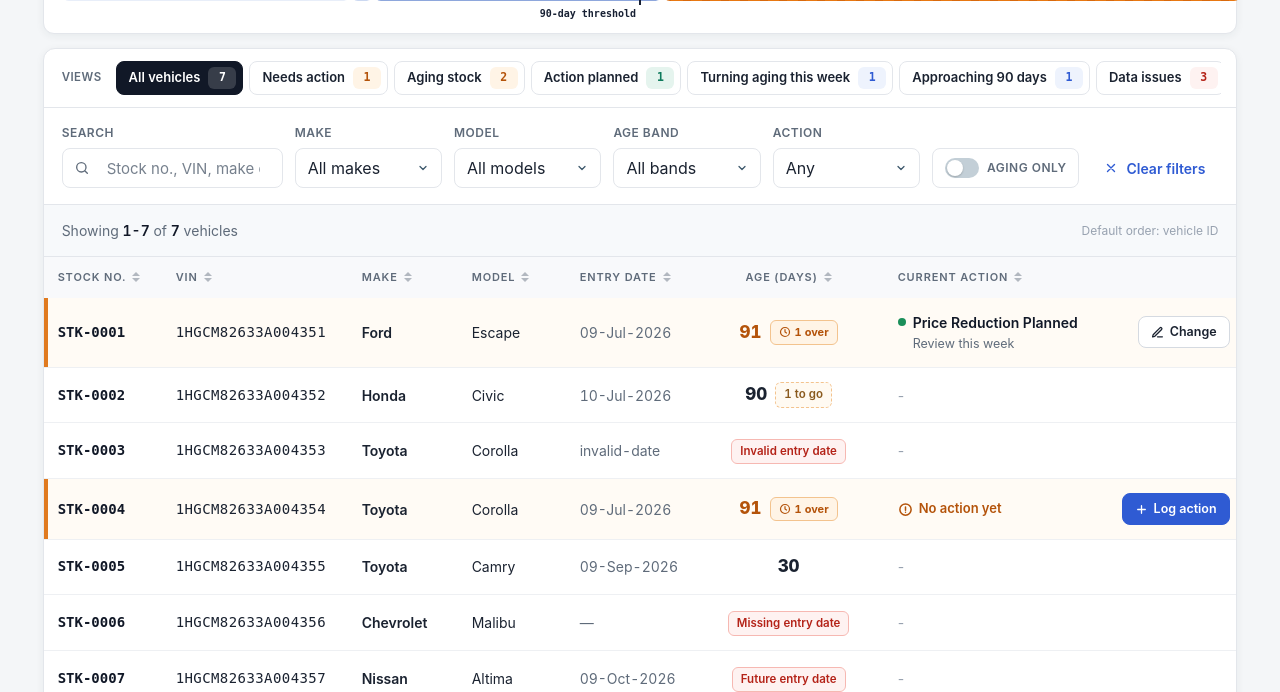
Scenario: App › keeps an existing action unchanged when validation rejects clearing the selection
(page scrolled)
Click the button "Change": (1184, 332) [1138,316,1230,348]
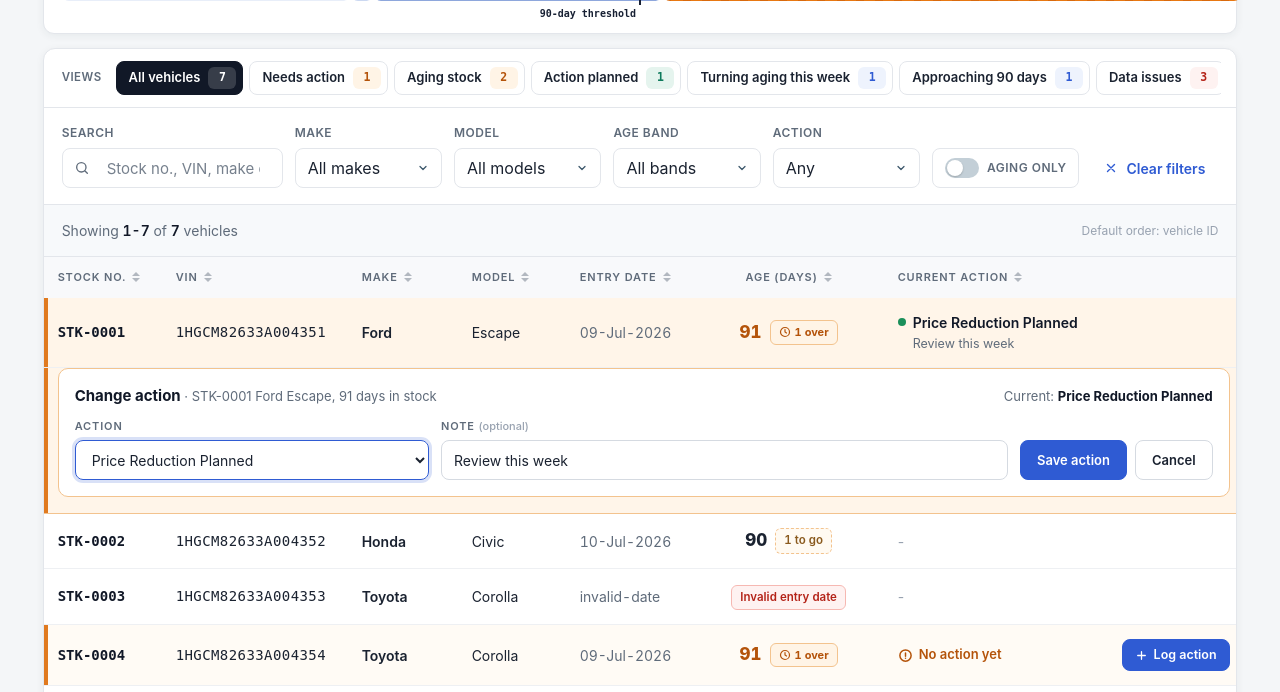
Select "Choose an action..." in the dropdown labelled "Action" below "Note": (252, 460) [75,440,429,480]
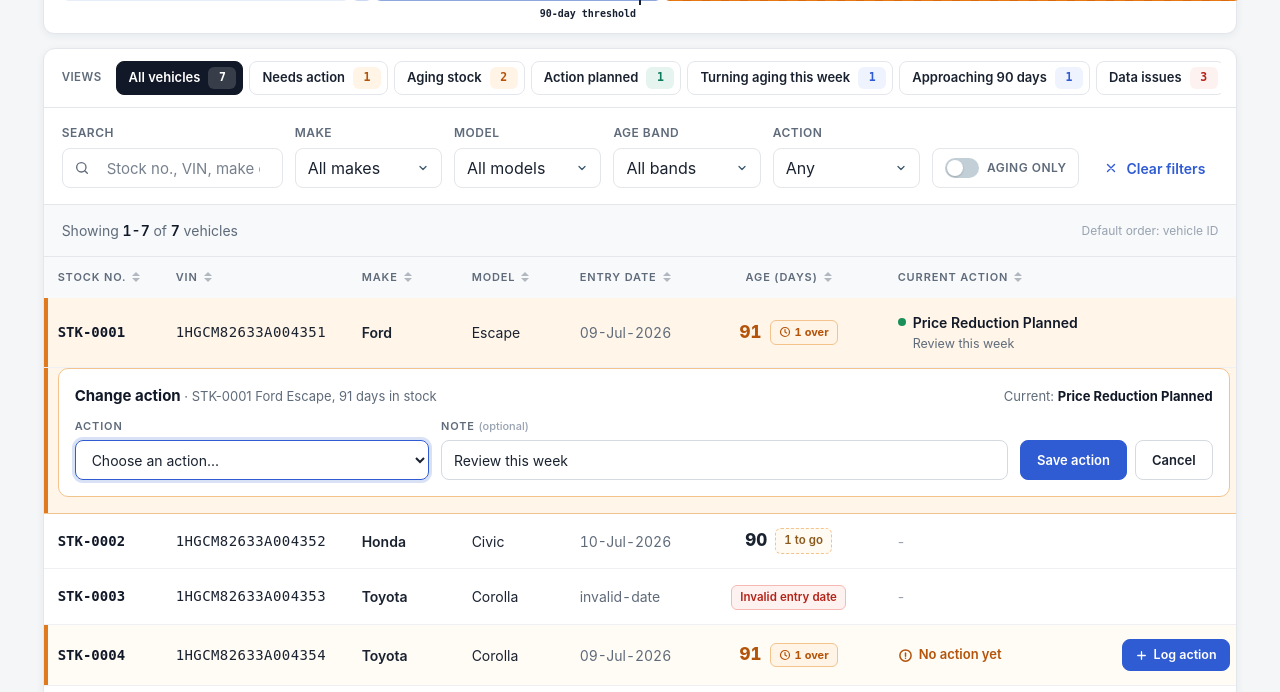
Click the button "Save action": (1074, 460) [1020,440,1127,480]
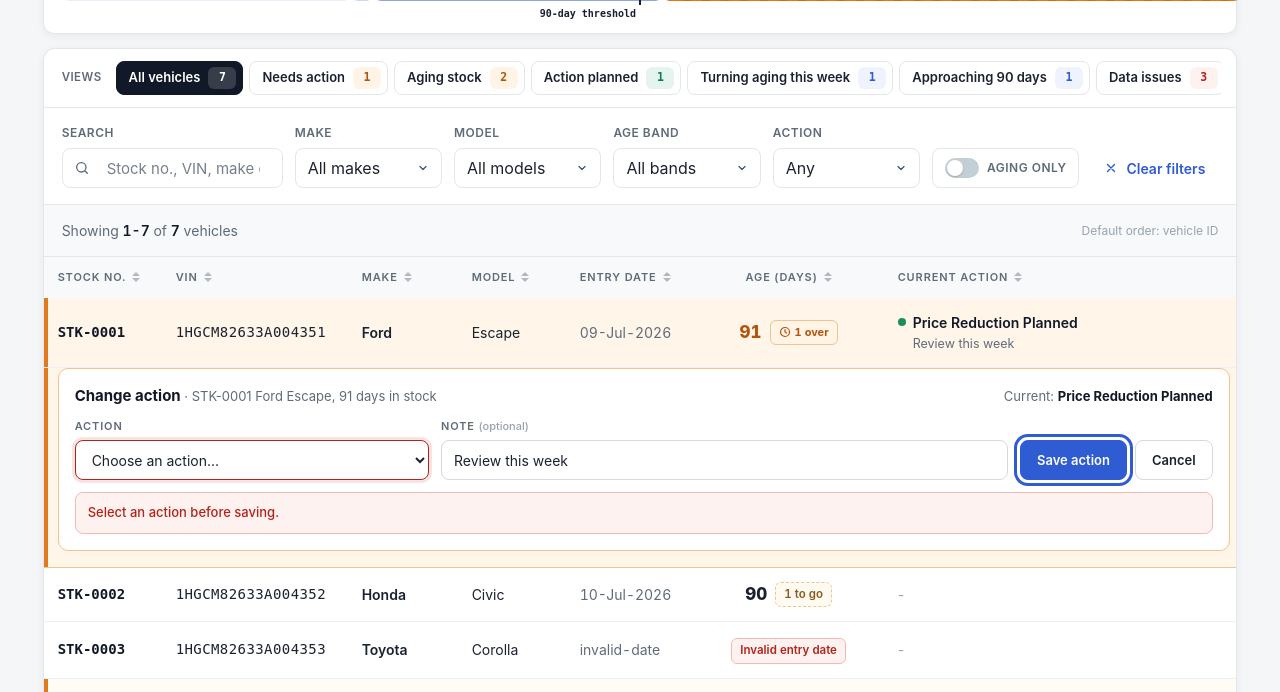
Expected: the row "STK-0001" shows "Price Reduction Planned", [913,314,1078,330]
Expected: the message "Select an action before saving." is shown, [75,492,1213,534]
